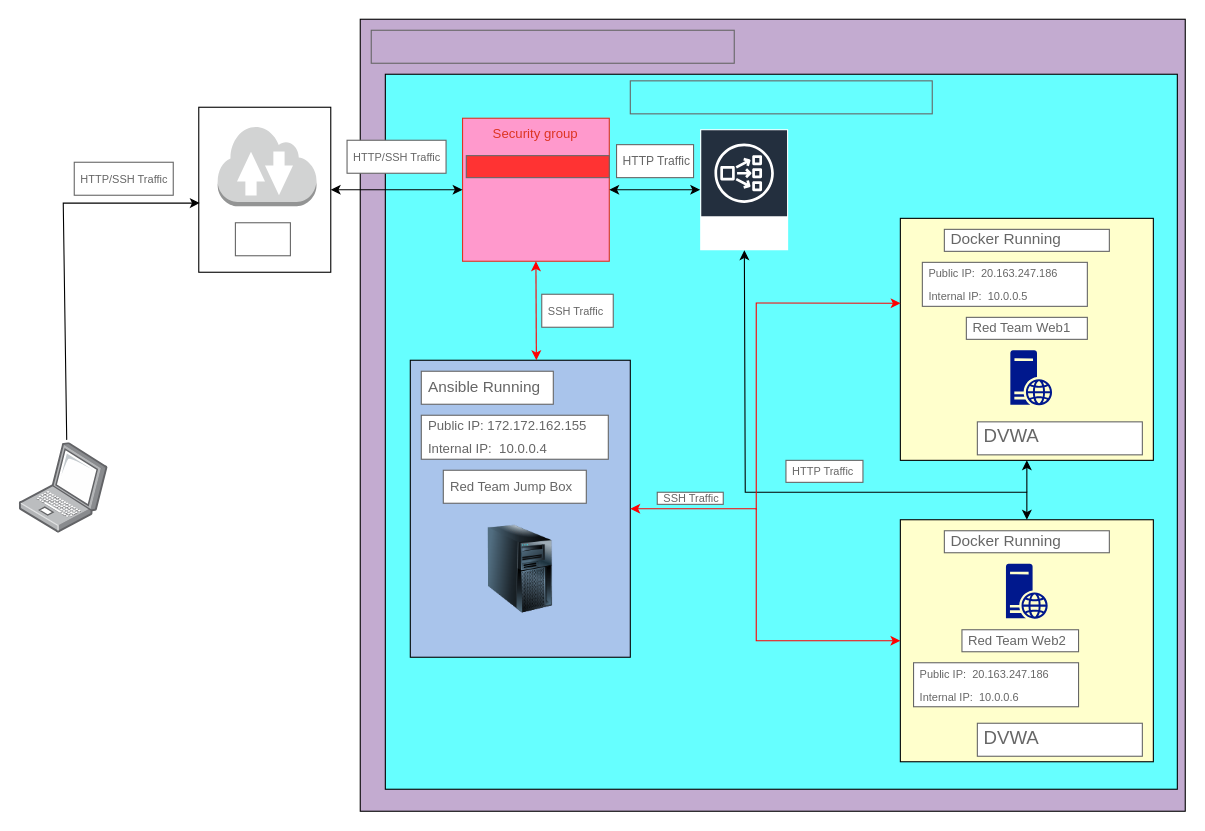
Image size: 1205x831. Some labels were removed from this diagram. The centre of each missing label's shape, as x and y in pixels:
Azure Virtual Network 10.0.0.0/16: the point at 780,97
Internet: the point at 262,239
Network Load Balancer: the point at 743,189
Red Team Resource Group: the point at 552,46
Red Team Security Group: the point at 537,166
